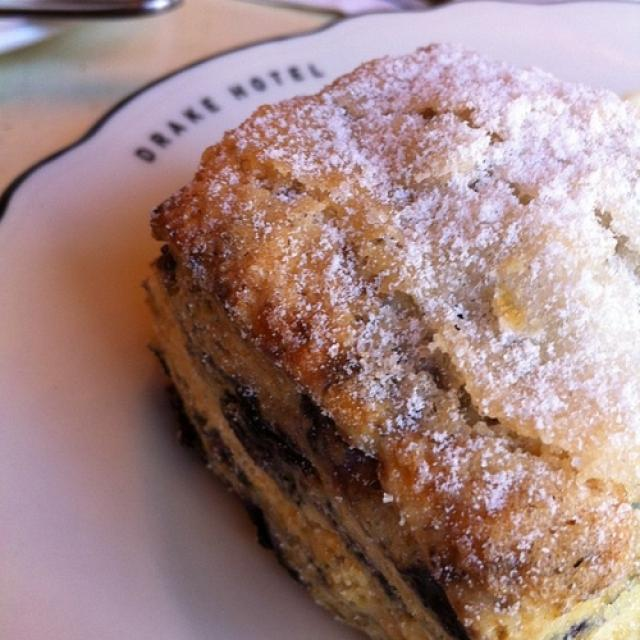面包点心: (1, 5, 630, 629)
